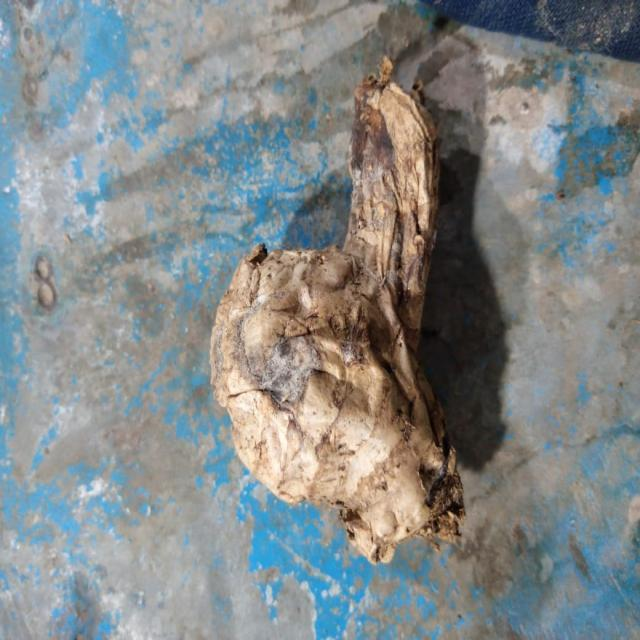ginger: (213, 85, 479, 550)
